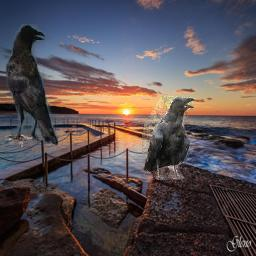Crow: (6, 25, 59, 148), (143, 96, 196, 180)
